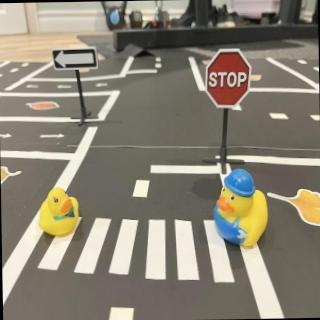duck_regular: (39, 187, 82, 240)
duck_specialty: (214, 169, 270, 250)
road_crosswalk: (32, 212, 239, 289)
road_oneway: (37, 131, 66, 142), (94, 80, 111, 90), (1, 130, 14, 143), (57, 83, 75, 91), (24, 83, 42, 90)
sign_oneway_left: (53, 48, 99, 71)
sign_stop: (205, 49, 252, 107)
